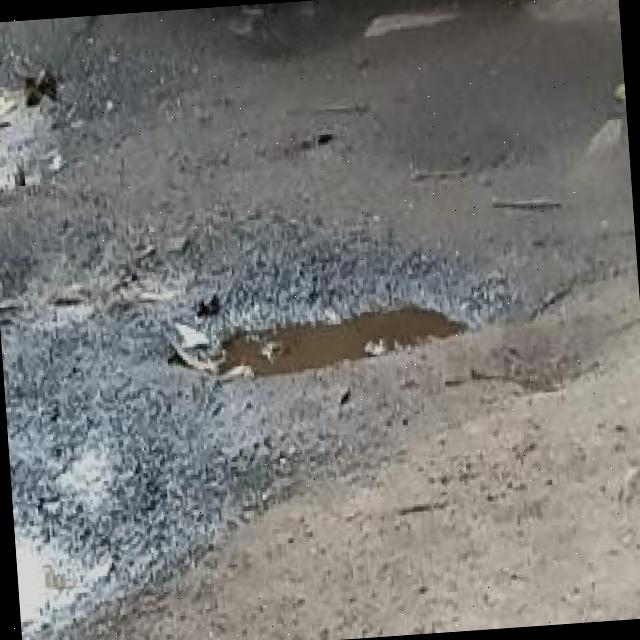stagnation: (203, 274, 460, 382)
